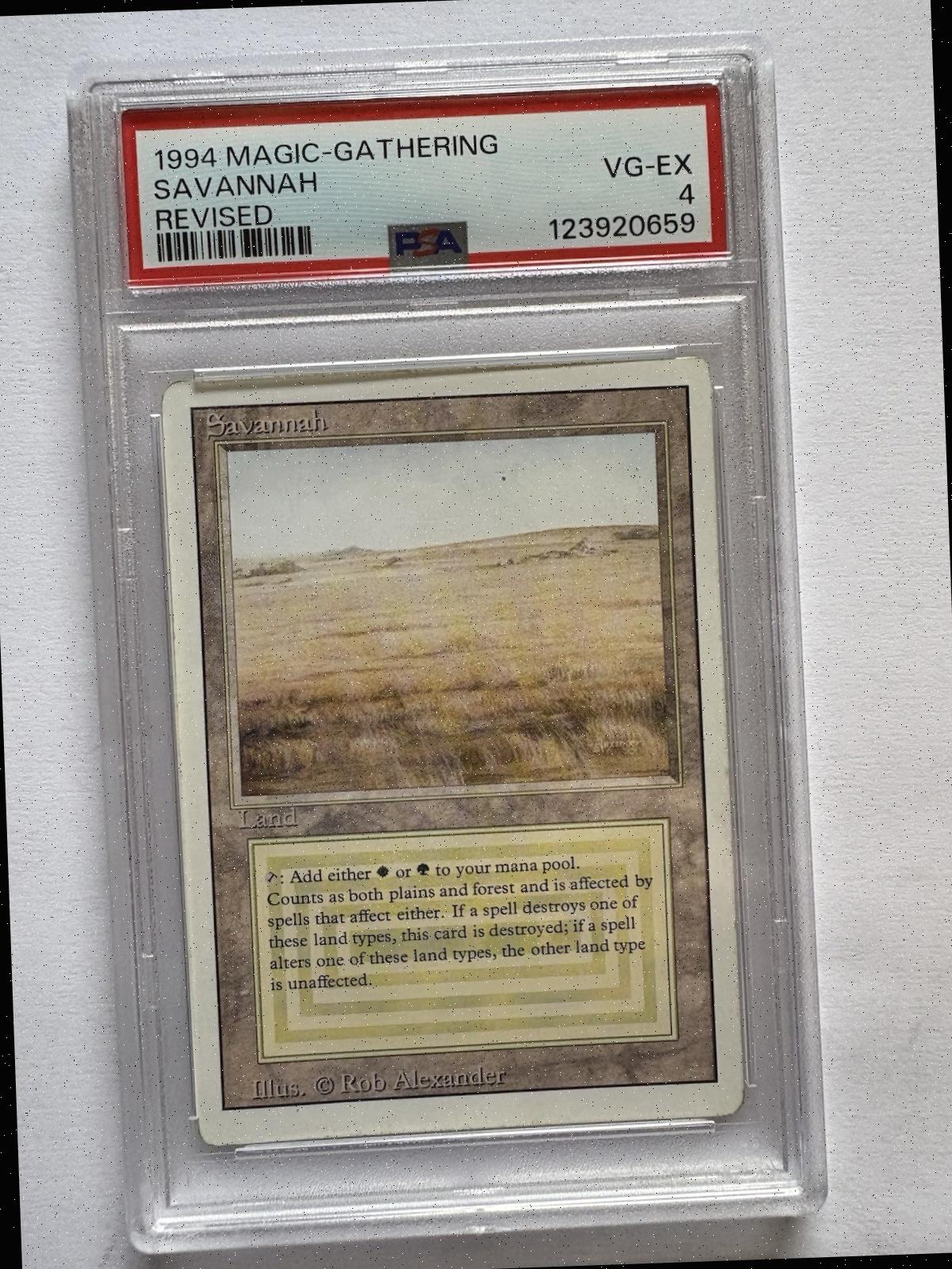card-2UtV: (161, 355, 745, 1146)
